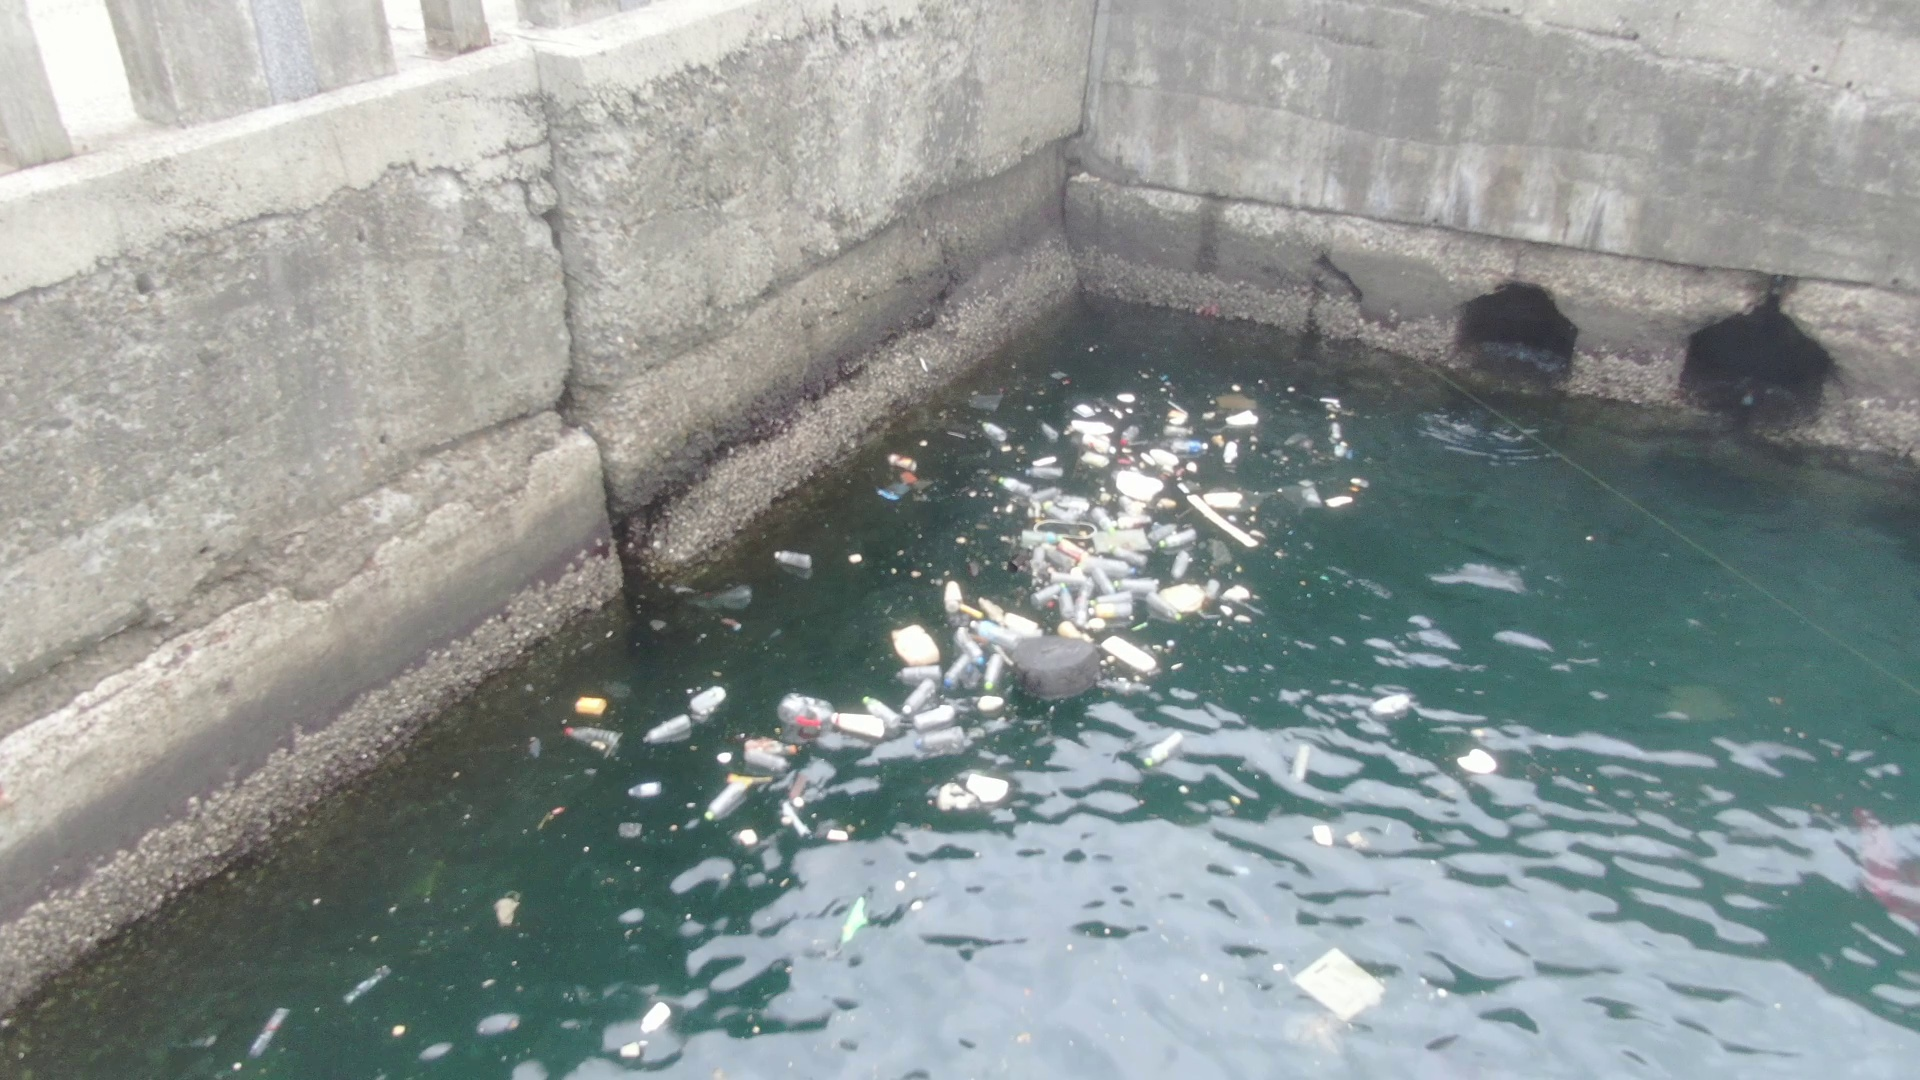bottle: (556, 717, 628, 767), (696, 777, 760, 825), (637, 709, 700, 752), (764, 542, 820, 582)
garbage: (535, 661, 1043, 944), (878, 440, 1275, 746), (1273, 665, 1520, 1038), (968, 369, 1377, 578)
